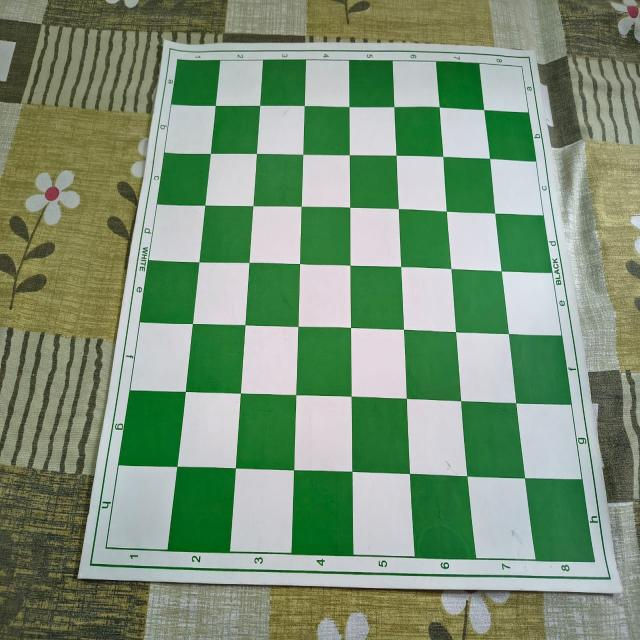square: (106, 466, 178, 549), (525, 478, 595, 562), (168, 466, 236, 552), (468, 476, 536, 561), (410, 473, 476, 559), (229, 469, 295, 554), (352, 472, 415, 557), (291, 471, 354, 556), (118, 390, 186, 467), (516, 404, 582, 480), (461, 401, 525, 478), (178, 393, 241, 469), (408, 398, 468, 476), (236, 393, 296, 471), (509, 334, 572, 405), (294, 395, 352, 472), (352, 397, 410, 474), (130, 322, 193, 392), (455, 332, 516, 403), (404, 330, 461, 402), (186, 324, 245, 393), (241, 326, 299, 395), (351, 328, 407, 399), (502, 271, 562, 336), (296, 327, 351, 396), (140, 260, 199, 324), (452, 269, 509, 333), (193, 262, 249, 326), (401, 267, 456, 332), (245, 263, 300, 327), (351, 265, 404, 329), (148, 204, 206, 262), (495, 214, 552, 272), (447, 212, 502, 272), (299, 265, 351, 328), (199, 205, 253, 263), (398, 209, 451, 268), (489, 158, 543, 215), (250, 205, 302, 264), (350, 209, 401, 267), (443, 157, 494, 214), (300, 207, 350, 265), (157, 153, 210, 206), (397, 156, 447, 212), (206, 153, 257, 207), (254, 153, 303, 207), (439, 108, 490, 159), (302, 154, 350, 208), (350, 155, 398, 209), (485, 111, 536, 161), (165, 105, 215, 154), (395, 107, 444, 157), (479, 64, 529, 113), (211, 106, 260, 154), (257, 105, 305, 154), (436, 61, 484, 110), (349, 107, 397, 155), (171, 59, 220, 106), (303, 106, 349, 156), (216, 60, 263, 106), (349, 60, 395, 107), (393, 61, 439, 108), (260, 60, 306, 106), (305, 60, 349, 107)
